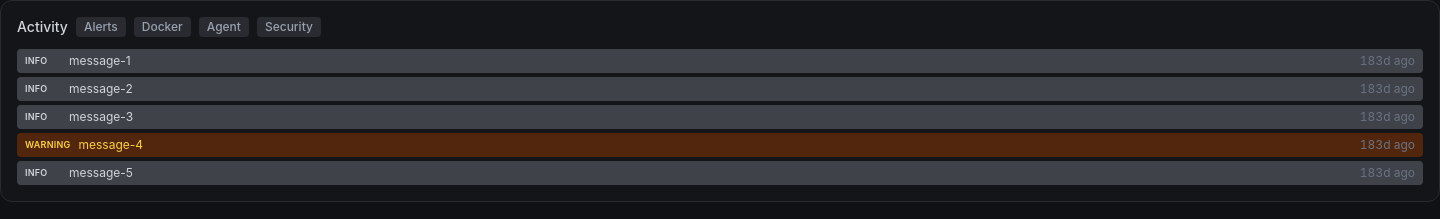
[AC-026] ActivityRiver — chip filter multiselect with eventCategory mapping (FR-054) › filters to security events when security chip is active
Click the button with test id "river-chip-security" at [289, 27], box left=257, top=17, right=321, bottom=37
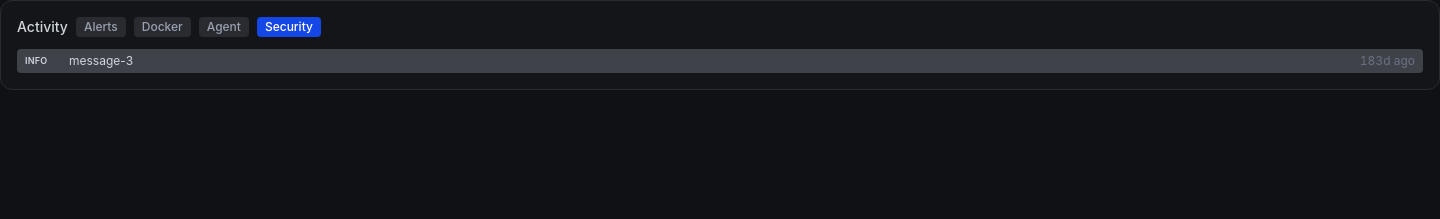
Expected: the list item with test id "river-event-3" is shown, left=17, top=49, right=1423, bottom=73
Expected: the list item with test id "river-event-1" is gone
